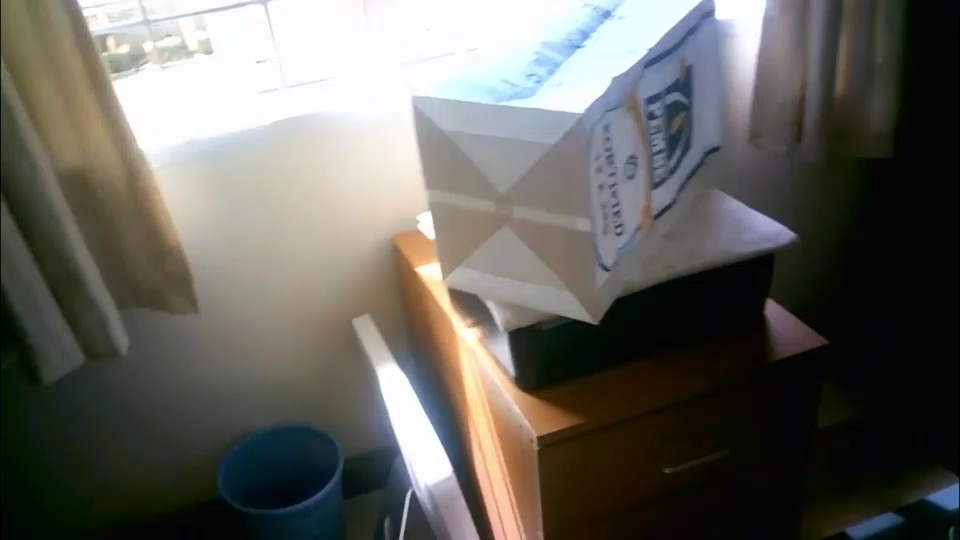wheat_flour_blue_label: (408, 2, 726, 323)
